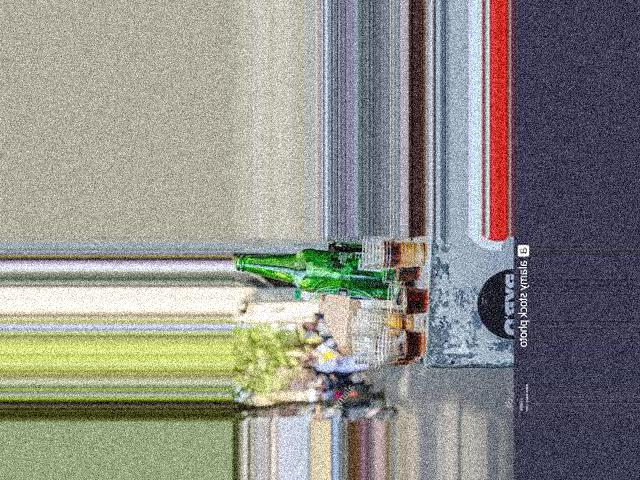beer: (236, 248, 409, 301)
